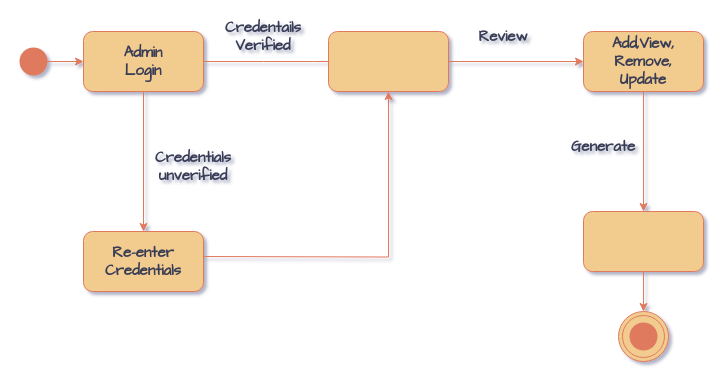
The diagram is 727 pixels wide and 385 high, and some of its shapes have lost their labels. Each missing label, with the box of its shape:
Login Successfully: (328, 30, 448, 92)
Report: (582, 210, 704, 272)
